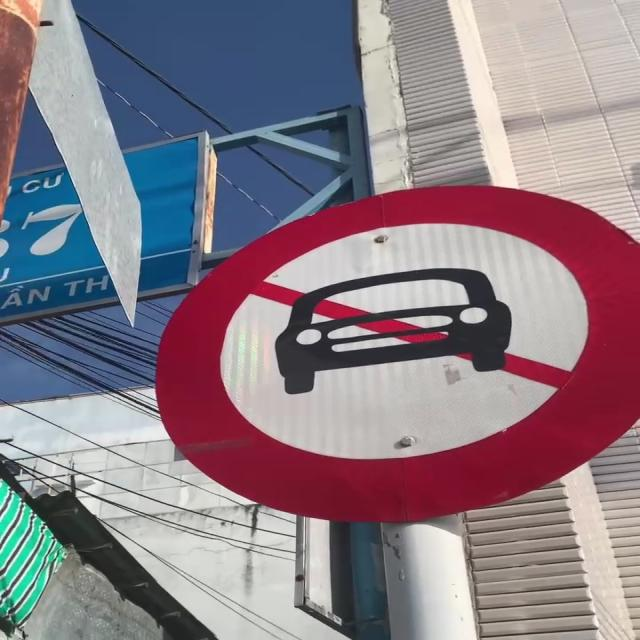Cam_O_To: (151, 180, 640, 522)
